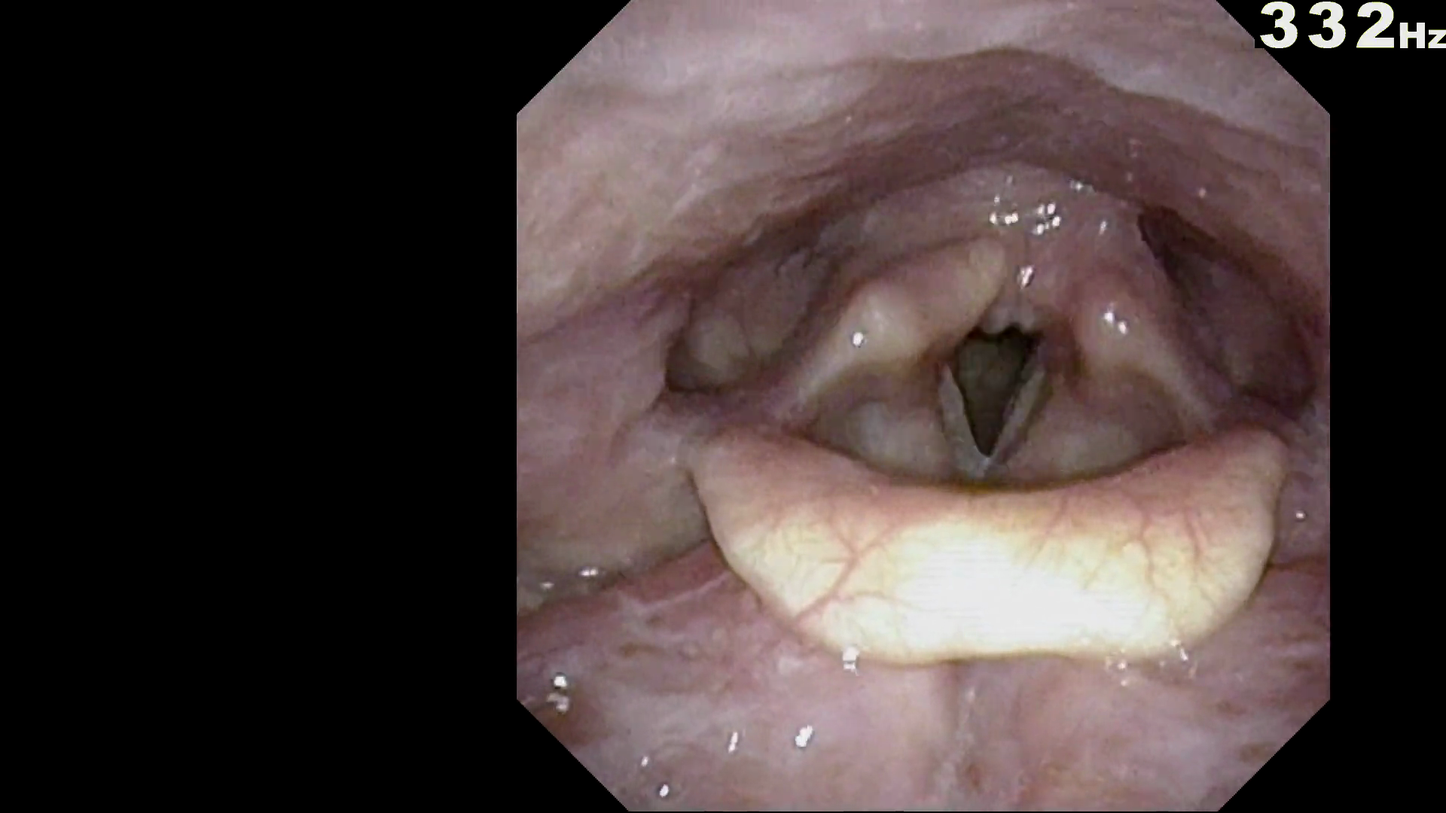epiglottis: (683, 404, 1290, 664)
trachea: (905, 301, 1081, 505)
